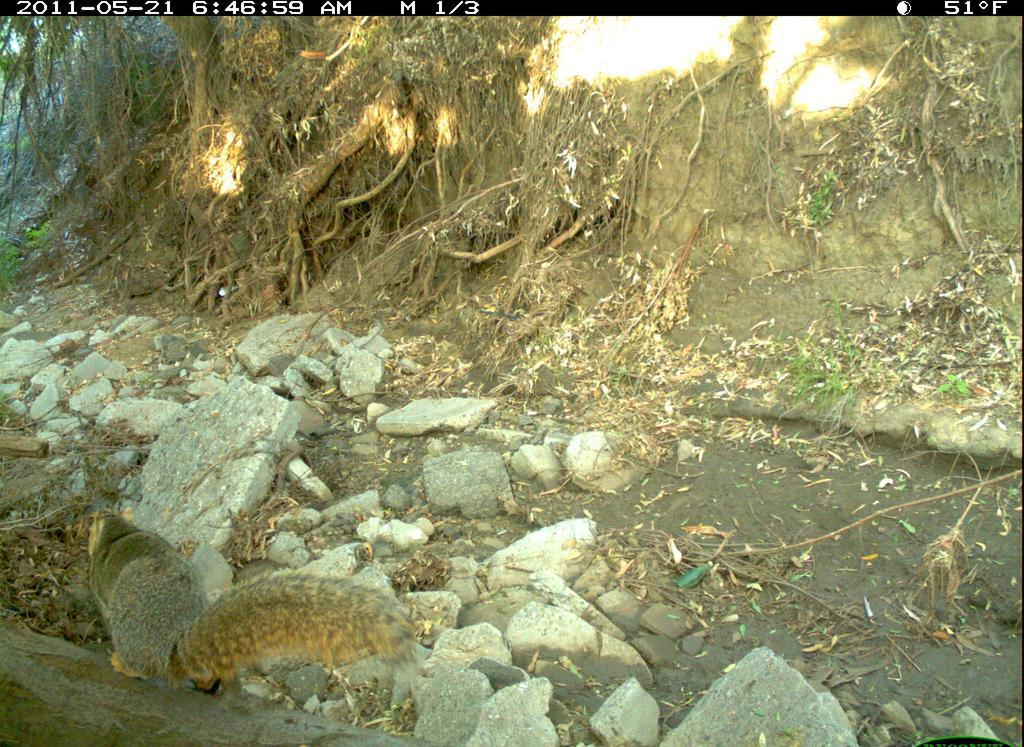squirrel: (73, 507, 425, 690)
